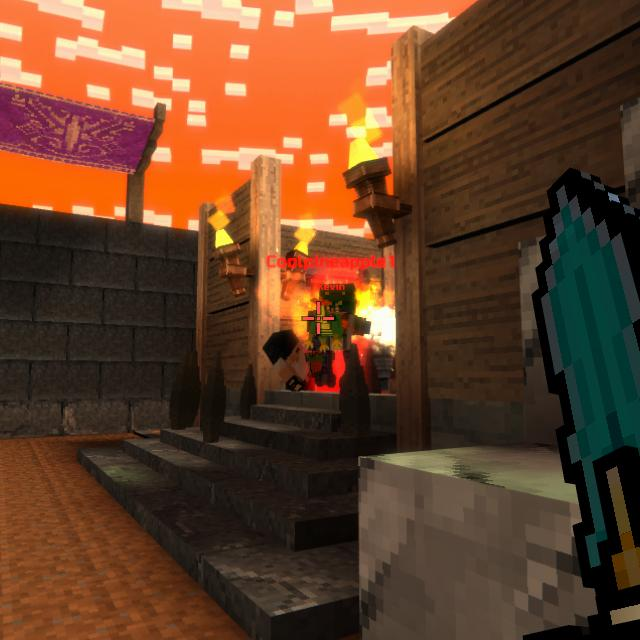Enemy: (306, 283, 373, 390)
